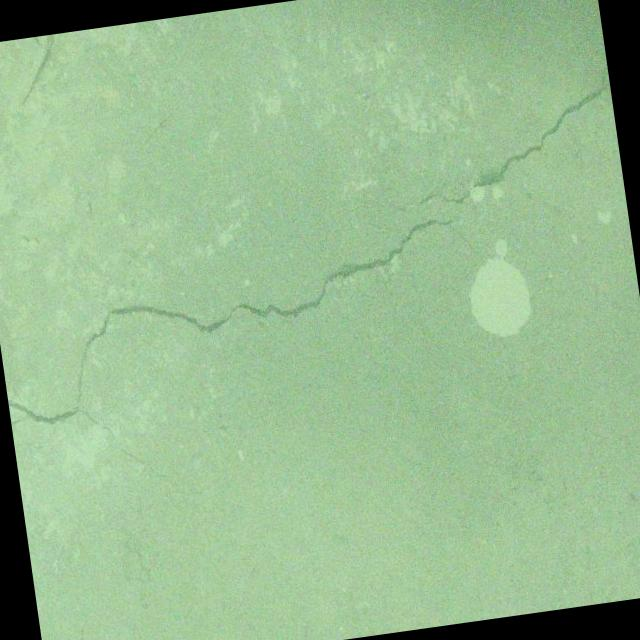crack: (0, 215, 513, 640), (322, 62, 624, 224)
